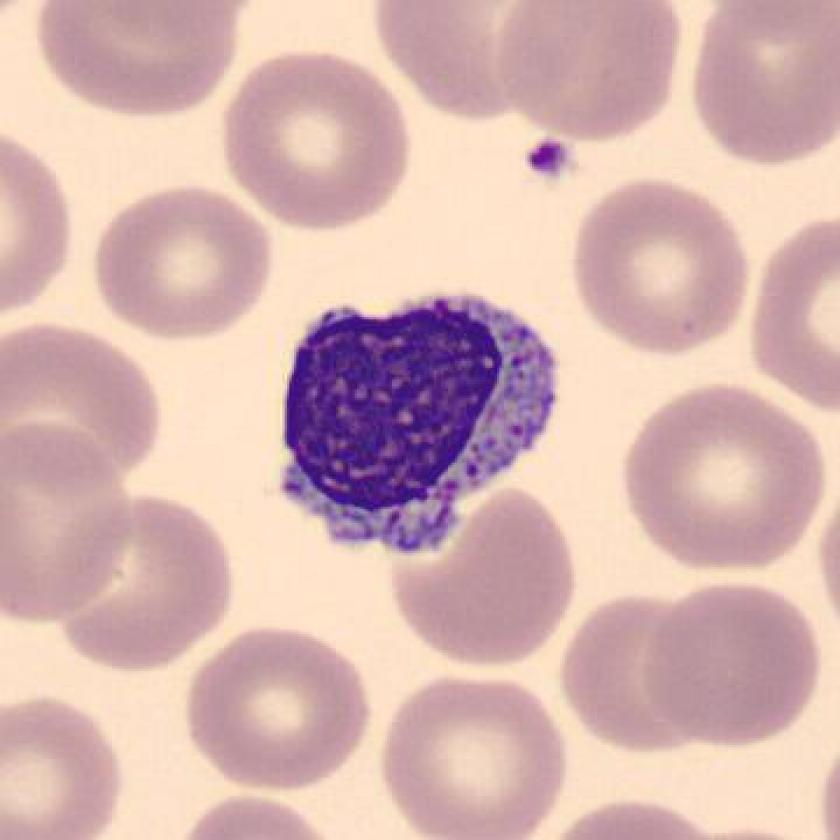lymphocyte: (255, 269, 575, 568)
